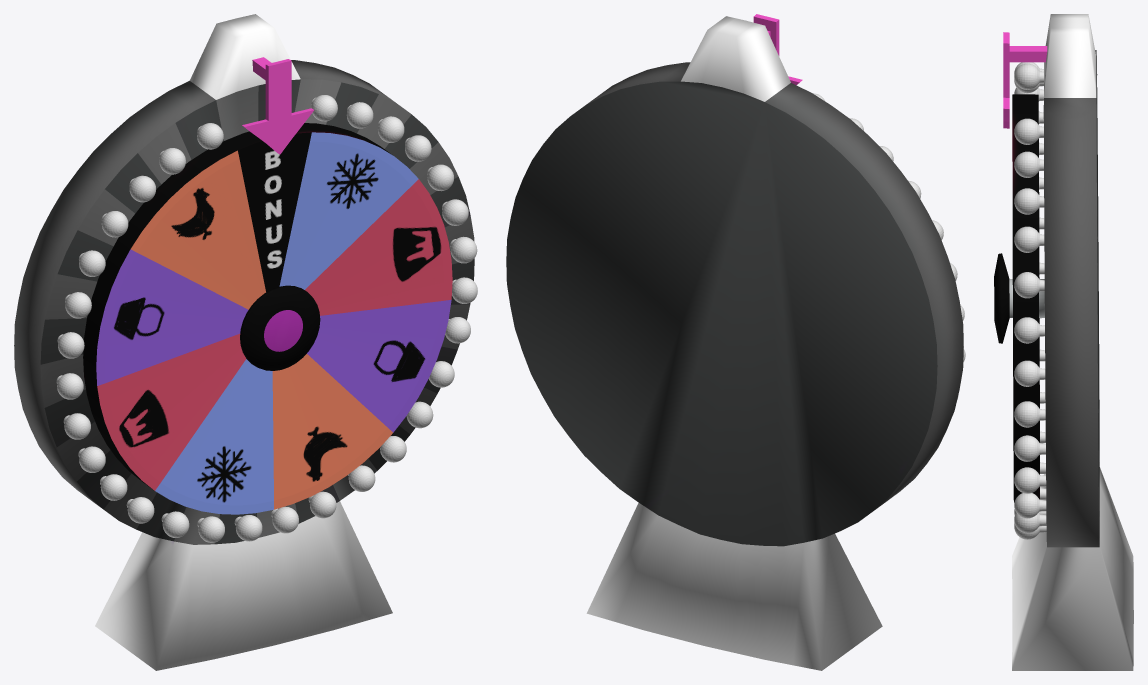
File: WHEEL.fbx
3 views of the same model, side by side, from view 1: azimuth 30°, elevation 25°; view 2: azimuth 150°, elevation 25°; view 3: azimuth 270°, elevation 25° (orthographic).
Parts seen in each view (by area): view 1: Cylinder, Circle, Cube; view 2: Circle; view 3: Circle, Cylinder, Cube, Sphere.020, Sphere.019, Sphere.021, Sphere.022, Sphere.023, Sphere.025, Sphere.024, Sphere.026, Sphere.027 (+5 smaller).
Boxes of the visible parts, left/top/right/bottom form: Cylinder: left=83, top=123, right=452, bottom=514; Circle: left=14, top=14, right=474, bottom=670; Cube: left=242, top=57, right=313, bottom=154; Circle: left=506, top=16, right=963, bottom=670; Circle: left=994, top=14, right=1133, bottom=670; Cylinder: left=1012, top=94, right=1039, bottom=502; Cube: left=1003, top=32, right=1047, bottom=128; Sphere.020: left=1014, top=467, right=1046, bottom=493; Sphere.019: left=1014, top=493, right=1046, bottom=518; Sphere.021: left=1014, top=435, right=1045, bottom=461; Sphere.022: left=1014, top=401, right=1045, bottom=427; Sphere.023: left=1014, top=360, right=1045, bottom=386; Sphere.025: left=1014, top=272, right=1044, bottom=298; Sphere.024: left=1014, top=317, right=1044, bottom=343; Sphere.026: left=1014, top=226, right=1044, bottom=252; Sphere.027: left=1014, top=188, right=1044, bottom=214.
Size of the model in its own units: 200 by 264 by 56.21.
Materials: 3 (3 with a texture image).
